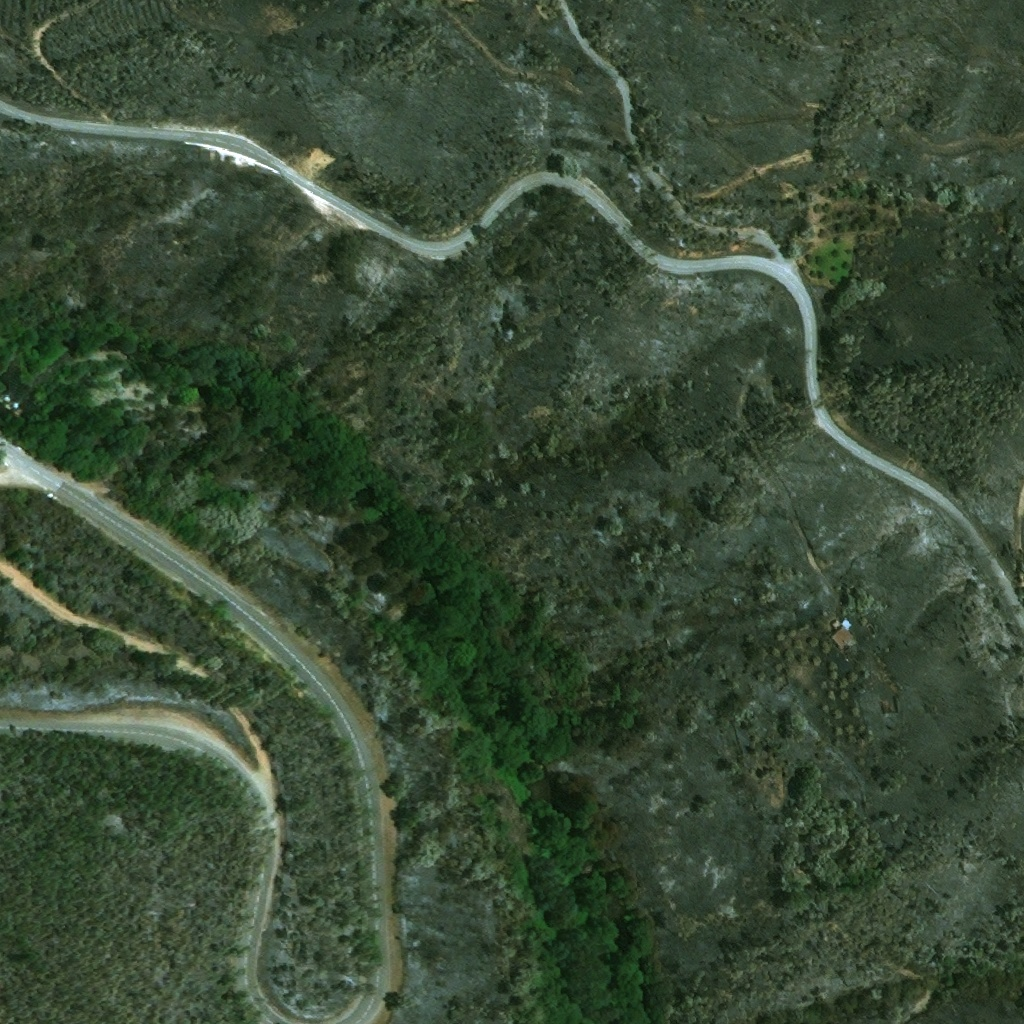0 no-damage: (831, 619, 855, 648)
